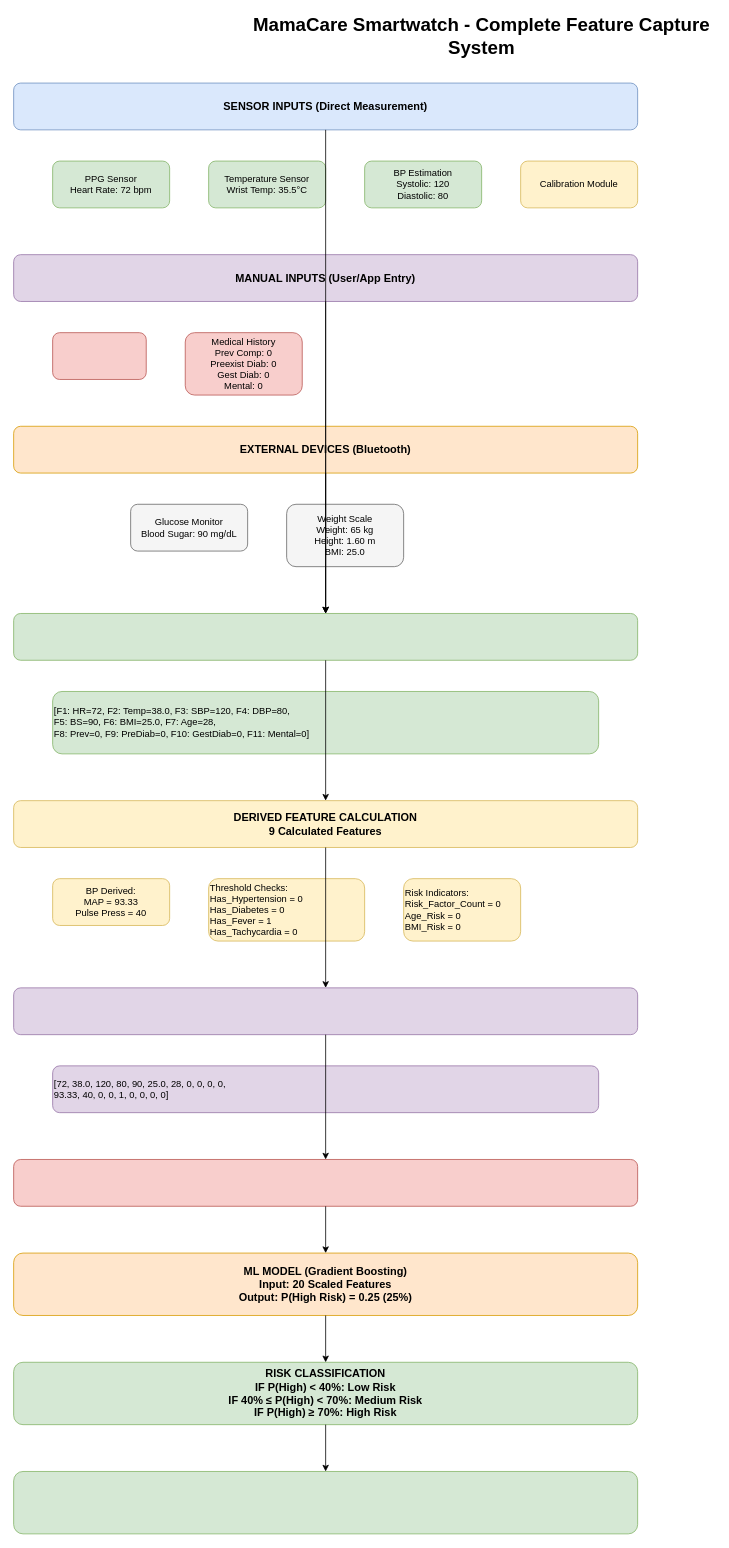
This 729x1548 diagram has some shape labels left out. The shapes that lost their labels are listed below. From the top down, each one's box as (x1, y1, x2, y2) in pixels, then its label:
(52, 332, 146, 379): User Profile Age: 28
(13, 613, 638, 660): FEATURE ASSEMBLY LAYER 11 Base Features
(13, 987, 638, 1035): COMPLETE FEATURE ARRAY 20 Features (11 Base + 9 Derived)
(13, 1159, 638, 1206): FEATURE SCALING StandardScaler Normalization
(13, 1471, 638, 1534): RESULT DISPLAY 🟢 Low Risk (25%) Recommendations...
